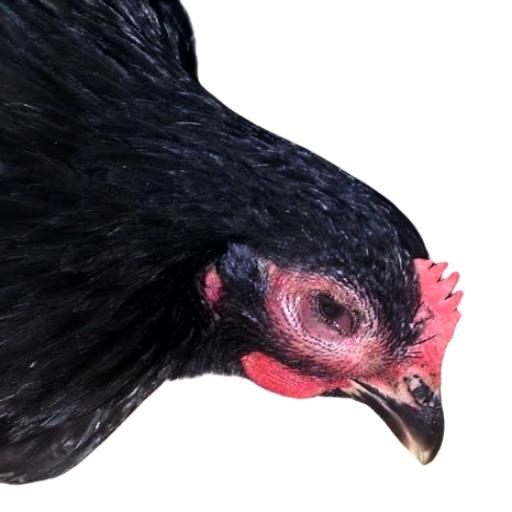disease: (265, 246, 411, 395)
